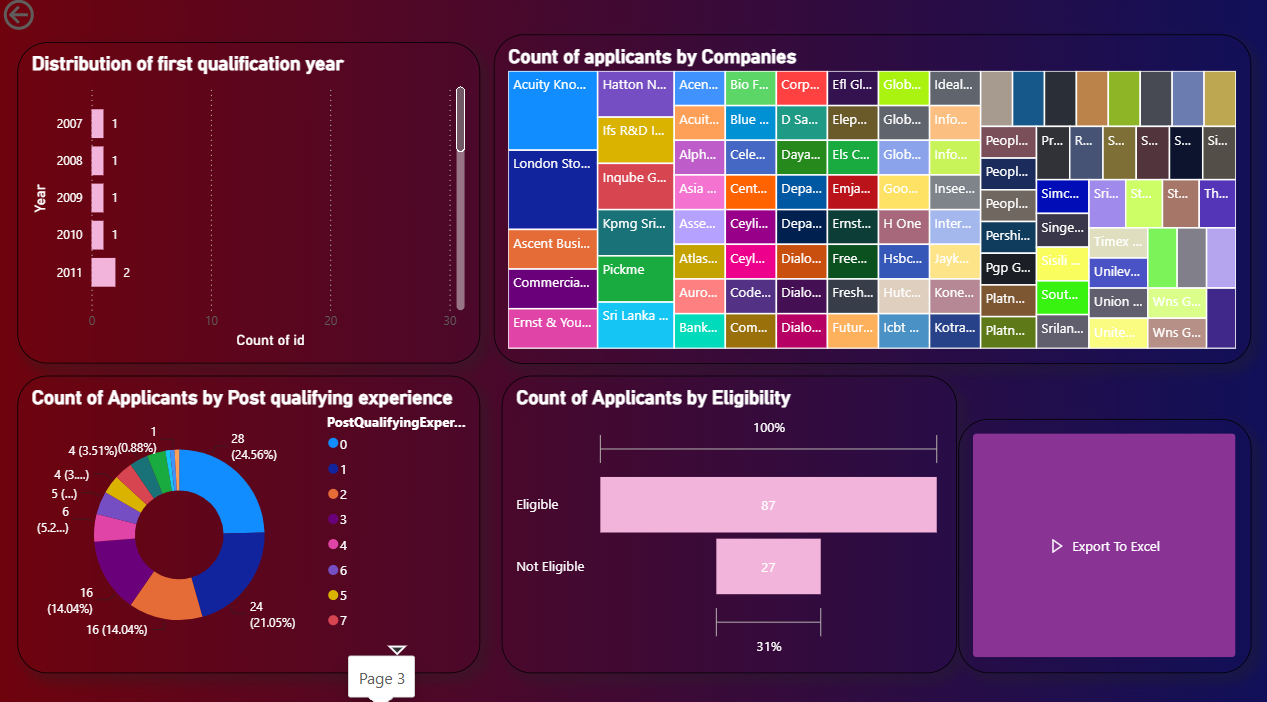

The dashboard page shown, as its layout file describes it:
{"tool":"powerbi","page":{"name":"Page 3","canvas":[1280,720],"ordinal":2},"visuals":[{"type":"barChart","title":"Distribution of first qualification year","fields":{"Y":["Count(Applicant Dataset for Visualization.id)"],"Category":["Applicant Dataset for Visualization.First Qualification Date.Variation.Date Hierarchy.Year","Applicant Dataset for Visualization.First Qualification Date.Variation.Date Hierarchy.Quarter","Applicant Dataset for Visualization.First Qualification Date.Variation.Date Hierarchy.Month","Applicant Dataset for Visualization.First Qualification Date.Variation.Date Hierarchy.Day"]},"box":[19,47.6,463.1,321.4],"z":0},{"type":"donutChart","title":"Count of Applicants by  Post qualifying experience","fields":{"Category":["Applicant Dataset for Visualization.TotalPositionDuration"],"Y":["Count(Applicant Dataset for Visualization.id)"]},"box":[19,381,463.1,297.6],"z":1000},{"type":"treemap","title":"Count of applicants by Companies","fields":{"Group":["Applicant Dataset for Visualization.Company 1","Applicant Dataset for Visualization.Company 2","Applicant Dataset for Visualization.Company 3","Applicant Dataset for Visualization.Company 4","Applicant Dataset for Visualization.Company 5","Applicant Dataset for Visualization.Company 6","Applicant Dataset for Visualization.Company 7"],"Values":["Count(Applicant Dataset for Visualization.id)"]},"box":[495.2,39.3,758.3,329.8],"z":2000},{"type":"funnel","title":"Count of Applicants by Eligibility","fields":{"Category":["Applicant Dataset for Visualization.Eligibility"],"Y":["CountNonNull(Applicant Dataset for Visualization.id)"]},"box":[503.6,381,456,297.6],"z":3000},{"type":"FlowVisual_C29F1DCC_81F5_4973_94AD_0517D44CC06A","fields":{"table":["Applicant Dataset for Visualization.id","Applicant Dataset for Visualization.pay_verified","Applicant Dataset for Visualization.Classification 1","Applicant Dataset for Visualization.Classification 2","Applicant Dataset for Visualization.Classification 3","Applicant Dataset for Visualization.Classification 4","Applicant Dataset for Visualization.Eligibility Category(Q1)","Applicant Dataset for Visualization.Eligibility Category(Q2)","Applicant Dataset for Visualization.Eligibility Category(Q3)","Applicant Dataset for Visualization.Eligibility Category(Q4)","Applicant Dataset for Visualization.Eligibility Criteria","Applicant Dataset for Visualization.TotalDuration"]},"box":[960.9,423.9,293,254.3],"z":4000},{"type":"actionButton","box":[0,0,100,40],"z":5000}]}

Visuals, with their boxes in screenshot pixels (x1, y1, x2, y2), scaled from the page's 1280x720 canvas onto the 1267x702 screenshot:
"Distribution of first qualification year" barChart: 19:46:477:360
"Count of Applicants by  Post qualifying experience" donutChart: 19:371:477:662
"Count of applicants by Companies" treemap: 490:38:1241:360
"Count of Applicants by Eligibility" funnel: 498:371:950:662
FlowVisual_C29F1DCC_81F5_4973_94AD_0517D44CC06A - Applicant Dataset for Visualization.id x Applicant Dataset for Visualization.pay_verified: 951:413:1241:661
actionButton: 0:0:99:39
